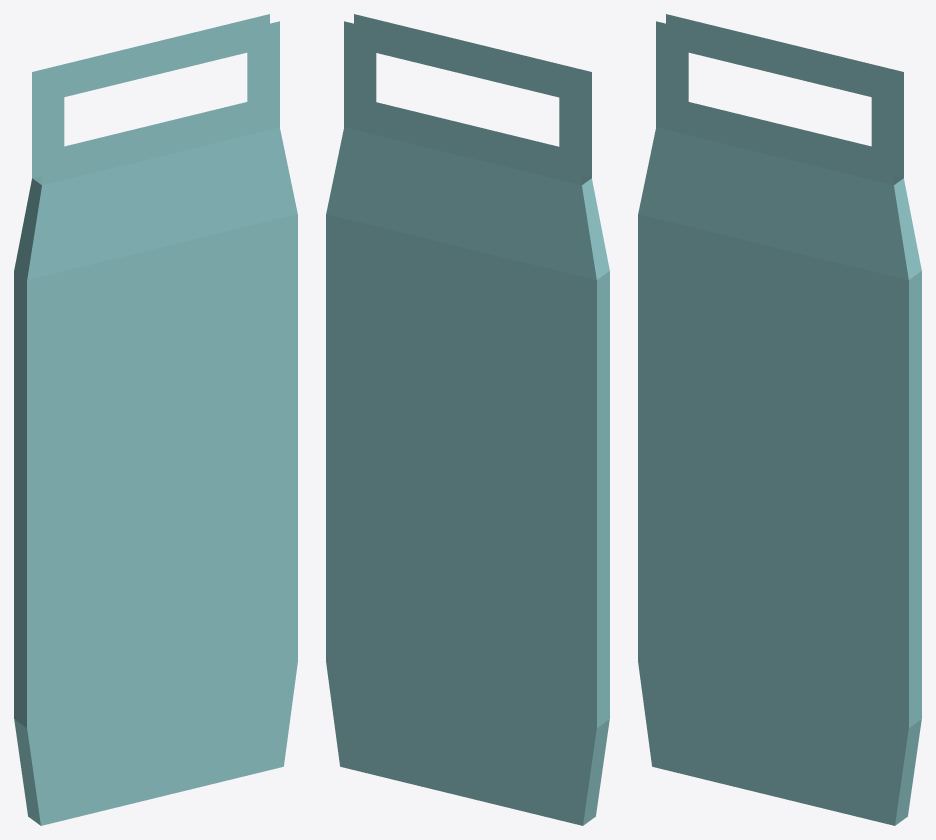
The model's file is PlasticBag.fbx.
The picture shows the model from 3 angles, left to right: view 1: azimuth 30°, elevation 25°; view 2: azimuth 150°, elevation 25°; view 3: azimuth 330°, elevation 25°; orthographic projection.
Parts seen in each view (by area): view 1: BolsaParaAgarrar; view 2: BolsaParaAgarrar; view 3: BolsaParaAgarrar.
Part boxes in pixels (x1,y1,x2,y2): BolsaParaAgarrar: [14, 14, 297, 825]; BolsaParaAgarrar: [326, 14, 609, 825]; BolsaParaAgarrar: [638, 14, 921, 825].
Bounding box in the file's own units: 5.35 × 14.08 × 0.446.
